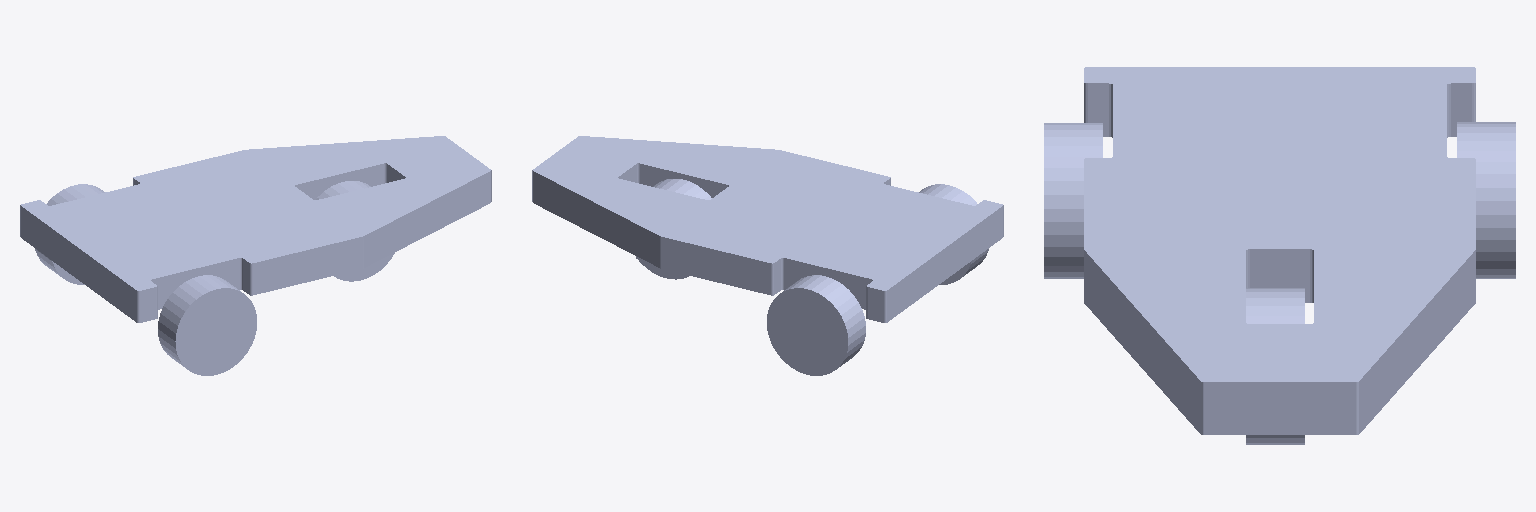
robot.urdf — proj1_assembly:
<?xml version="1.0" encoding="utf-8"?>
<!-- This URDF was automatically created by SolidWorks to URDF Exporter! Originally created by [author] ([email redacted]) 
     Commit Version: 1.6.0-1-g15f4949  Build Version: 1.6.7594.29634
     For more information, please see http://wiki.ros.org/sw_urdf_exporter -->
<robot
  name="proj1_assembly">
  <link name="dummy_link">
  </link>
  <joint name="dummy_joint" type="fixed">
    <parent link="dummy_link"/>
    <child link="chasis"/>
  </joint>
  <link
    name="chasis">
    <inertial>
      <origin
        xyz="-0.05109 -9.5143E-17 0.036183"
        rpy="0 0 0" />
      <mass
        value="30.536" />
      <inertia
        ixx="0.56323"
        ixy="-3.1084E-16"
        ixz="-0.00072627"
        iyy="2.0786"
        iyz="3.8259E-17"
        izz="2.6033" />
    </inertial>
    <visual>
      <origin
        xyz="0 0 0"
        rpy="0 0 0" />
      <geometry>
        <mesh
          filename="package://proj1_assembly/meshes/chasis.STL" />
      </geometry>
      <material
        name="">
        <color
          rgba="0.79216 0.81961 0.93333 1" />
      </material>
    </visual>
    <collision>
      <origin
        xyz="0 0 0"
        rpy="0 0 0" />
      <geometry>
        <mesh
          filename="package://proj1_assembly/meshes/chasis.STL" />
      </geometry>
    </collision>
  </link>
  <link
    name="front_wheel">
    <inertial>
      <origin
        xyz="0 2.77555756156289E-17 0.00635000000000007"
        rpy="0 0 0" />
      <mass
        value="2.90870361301128" />
      <inertia
        ixx="0.0105118190507943"
        ixy="-4.33680868994202E-19"
        ixz="4.00578241400834E-19"
        iyy="0.0105118190507943"
        iyz="1.73053538283402E-19"
        izz="0.0129886683607583" />
    </inertial>
    <visual>
      <origin
        xyz="0 0 0"
        rpy="0 0 0" />
      <geometry>
        <mesh
          filename="package://proj1_assembly/meshes/front_wheel.STL" />
      </geometry>
      <material
        name="">
        <color
          rgba="0.792156862745098 0.819607843137255 0.933333333333333 1" />
      </material>
    </visual>
    <collision>
      <origin
        xyz="0 0 0"
        rpy="0 0 0" />
      <geometry>
        <mesh
          filename="package://proj1_assembly/meshes/front_wheel.STL" />
      </geometry>
    </collision>
  </link>
  <joint
    name="front_joint"
    type="continuous">
    <origin
      xyz="0.1905 0 -0.0381"
      rpy="-1.5708 1.1406 -3.1416" />
    <parent
      link="chasis" />
    <child
      link="front_wheel" />
    <axis
      xyz="0 0 1" />
  </joint>
  <link
    name="back_left_wheel">
    <inertial>
      <origin
        xyz="5.5511E-17 1.3878E-17 -0.1081"
        rpy="0 0 0" />
      <mass
        value="2.6899" />
      <inertia
        ixx="0.0089389"
        ixy="4.3368E-19"
        ixz="3.7838E-19"
        iyy="0.0089389"
        iyz="2.1236E-19"
        izz="0.012871" />
    </inertial>
    <visual>
      <origin
        xyz="0 0 0"
        rpy="0 0 0" />
      <geometry>
        <mesh
          filename="package://proj1_assembly/meshes/back_left_wheel.STL" />
      </geometry>
      <material
        name="">
        <color
          rgba="0.79216 0.81961 0.93333 1" />
      </material>
    </visual>
    <collision>
      <origin
        xyz="0 0 0"
        rpy="0 0 0" />
      <geometry>
        <mesh
          filename="package://proj1_assembly/meshes/back_left_wheel.STL" />
      </geometry>
    </collision>
  </link>
  <joint
    name="back_left_joint"
    type="continuous">
    <origin
      xyz="-0.3175 0.1524 -0.0381"
      rpy="1.5708 0.091451 0" />
    <parent
      link="chasis" />
    <child
      link="back_left_wheel" />
    <axis
      xyz="0 0 1" />
  </joint>
  <link
    name="back_right_wheel">
    <inertial>
      <origin
        xyz="5.5511E-17 -2.7756E-17 -0.1081"
        rpy="0 0 0" />
      <mass
        value="2.6899" />
      <inertia
        ixx="0.0089389"
        ixy="4.3368E-19"
        ixz="-1.1129E-18"
        iyy="0.0089389"
        iyz="1.3881E-18"
        izz="0.012871" />
    </inertial>
    <visual>
      <origin
        xyz="0 0 0"
        rpy="0 0 0" />
      <geometry>
        <mesh
          filename="package://proj1_assembly/meshes/back_right_wheel.STL" />
      </geometry>
      <material
        name="">
        <color
          rgba="0.79216 0.81961 0.93333 1" />
      </material>
    </visual>
    <collision>
      <origin
        xyz="0 0 0"
        rpy="0 0 0" />
      <geometry>
        <mesh
          filename="package://proj1_assembly/meshes/back_right_wheel.STL" />
      </geometry>
    </collision>
  </link>
  <joint
    name="back_right_joint"
    type="continuous">
    <origin
      xyz="-0.3175 -0.1524 -0.0381"
      rpy="-1.5708 0.7098 0" />
    <parent
      link="chasis" />
    <child
      link="back_right_wheel" />
    <axis
      xyz="0 0 1" />
  </joint>
  <transmission name="front_wheel">
    <type>transmission_interface/SimpleTransmission</type>
    <joint name="front_joint">
      <hardwareInterface>hardware_interface/EffortJointInterface</hardwareInterface>
    </joint>
    <actuator name="motor_front">
      <hardwareInterface>hardware_interface/EffortJointInterface</hardwareInterface>
      <mechanicalReduction>1</mechanicalReduction>
    </actuator>
  </transmission>
  <transmission name="right_wheel">
    <type>transmission_interface/SimpleTransmission</type>
    <joint name="back_right_joint">
      <hardwareInterface>hardware_interface/EffortJointInterface</hardwareInterface>
    </joint>
    <actuator name="motor_right">
      <hardwareInterface>hardware_interface/EffortJointInterface</hardwareInterface>
      <mechanicalReduction>1</mechanicalReduction>
    </actuator>
  </transmission>
  <transmission name="left_wheel">
    <type>transmission_interface/SimpleTransmission</type>
    <joint name="back_left_joint">
      <hardwareInterface>hardware_interface/EffortJointInterface</hardwareInterface>
    </joint>
    <actuator name="motor_left">
      <hardwareInterface>hardware_interface/EffortJointInterface</hardwareInterface>
      <mechanicalReduction>1</mechanicalReduction>
    </actuator>
  </transmission>
</robot>

--- Facts derived from the render (not from the file) ---
Views: 3 orthographic renders of the robot side by side, from view 1: azimuth 30°, elevation 25°; view 2: azimuth 150°, elevation 25°; view 3: azimuth 270°, elevation 25°.
Model proj1_assembly with 5 links and 4 joints (3 continuous, 1 fixed), rooted at dummy_link, posed all joints at 0.
Visible links, largest first — view 1: chasis, back_right_wheel, back_left_wheel, front_wheel; view 2: chasis, back_left_wheel, back_right_wheel, front_wheel; view 3: chasis, back_left_wheel, back_right_wheel, front_wheel.
Link boxes in pixels (left/top/right/bottom): chasis: left=20, top=136, right=491, bottom=322; back_right_wheel: left=158, top=275, right=256, bottom=375; back_left_wheel: left=35, top=184, right=104, bottom=284; front_wheel: left=316, top=181, right=394, bottom=281; chasis: left=532, top=136, right=1003, bottom=322; back_left_wheel: left=767, top=275, right=865, bottom=375; back_right_wheel: left=919, top=184, right=988, bottom=284; front_wheel: left=638, top=179, right=711, bottom=279; chasis: left=1084, top=67, right=1475, bottom=434; back_left_wheel: left=1457, top=122, right=1515, bottom=278; back_right_wheel: left=1044, top=123, right=1102, bottom=278; front_wheel: left=1246, top=288, right=1304, bottom=444.
Bounding box of the posed robot: 0.9652 × 0.6096 × 0.2159 m (x, y, z).
Meshes: 4 distinct files referenced, 4 mesh visuals loaded (4 binary STL).